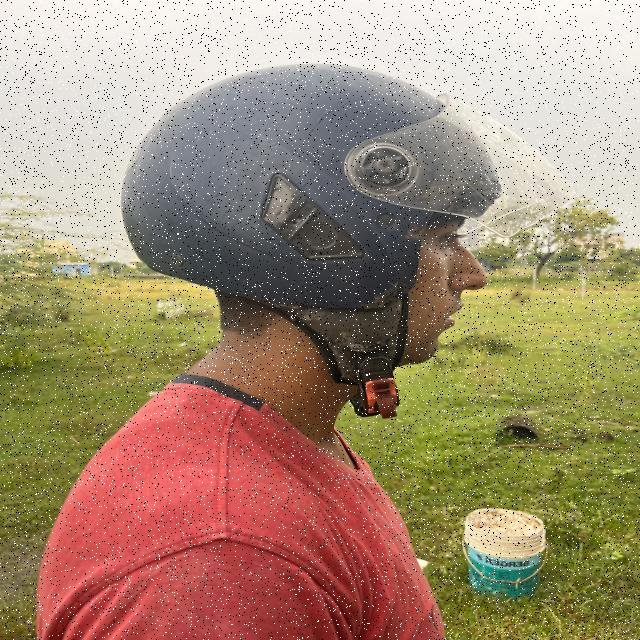Helmet: (122, 65, 573, 309)
